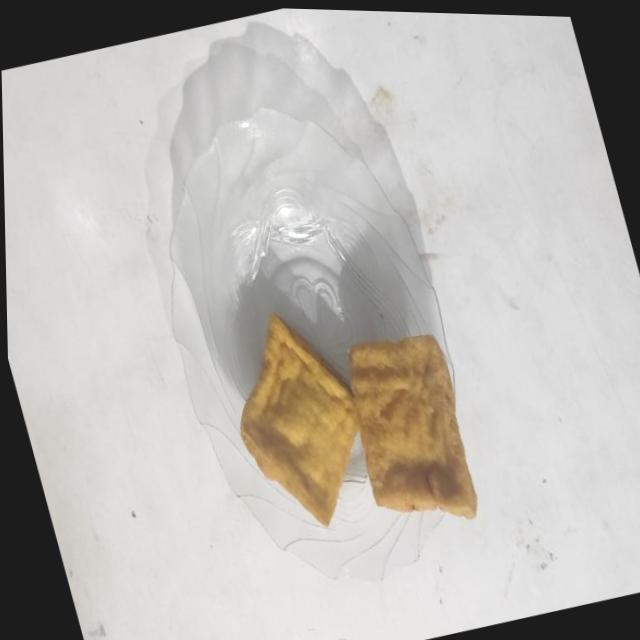tahu_goreng: (240, 314, 359, 526), (348, 335, 476, 518)
